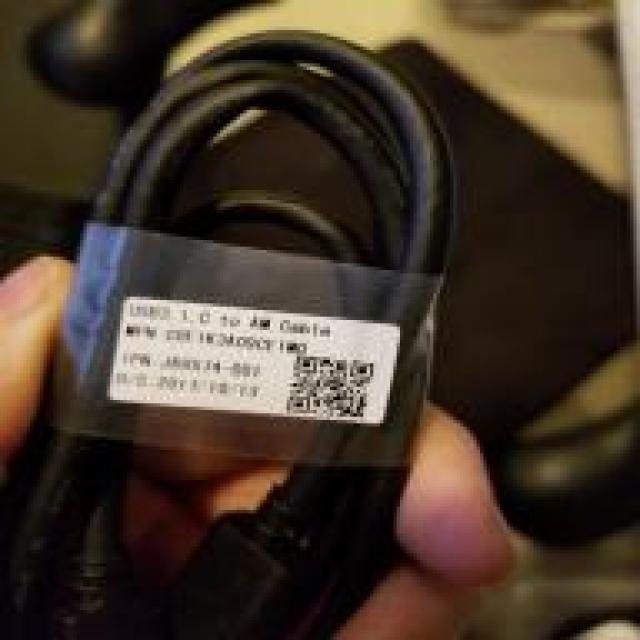QR_CODE: (280, 346, 383, 426)
